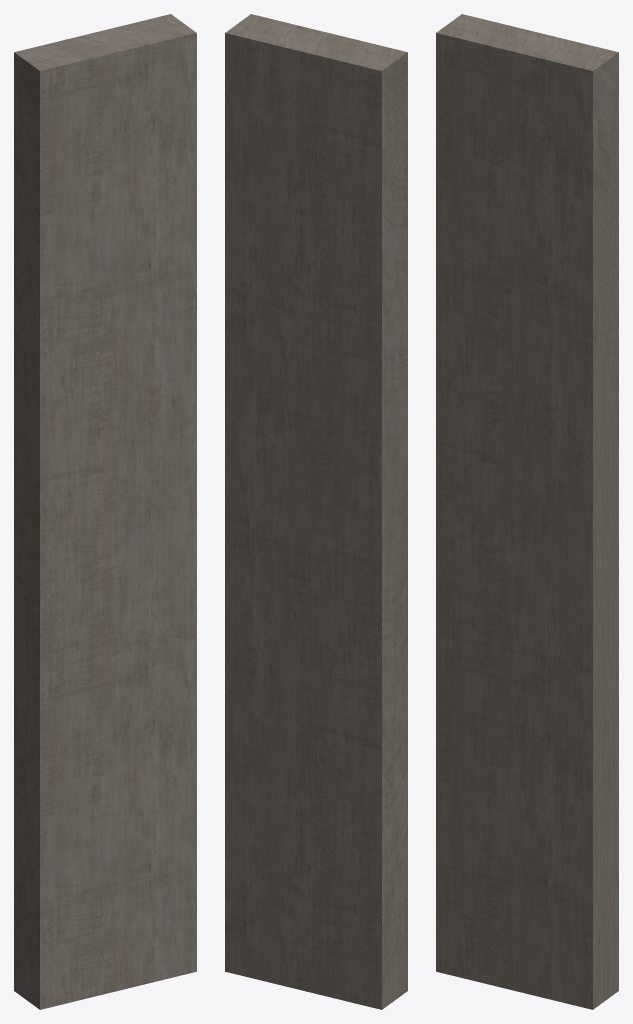
The model's file is wall14_3.obj.
3 views of the same model, side by side, from view 1: azimuth 30°, elevation 25°; view 2: azimuth 150°, elevation 25°; view 3: azimuth 330°, elevation 25° (orthographic).
Visible parts, largest first — view 1: wall.014_3; view 2: wall.014_3; view 3: wall.014_3.
Part boxes in pixels (left/top/right/bottom): wall.014_3: left=14, top=14, right=196, bottom=1009; wall.014_3: left=225, top=14, right=407, bottom=1009; wall.014_3: left=436, top=14, right=618, bottom=1009.
Bounding box in the file's own units: 0.1748 × 1 × 0.05.
